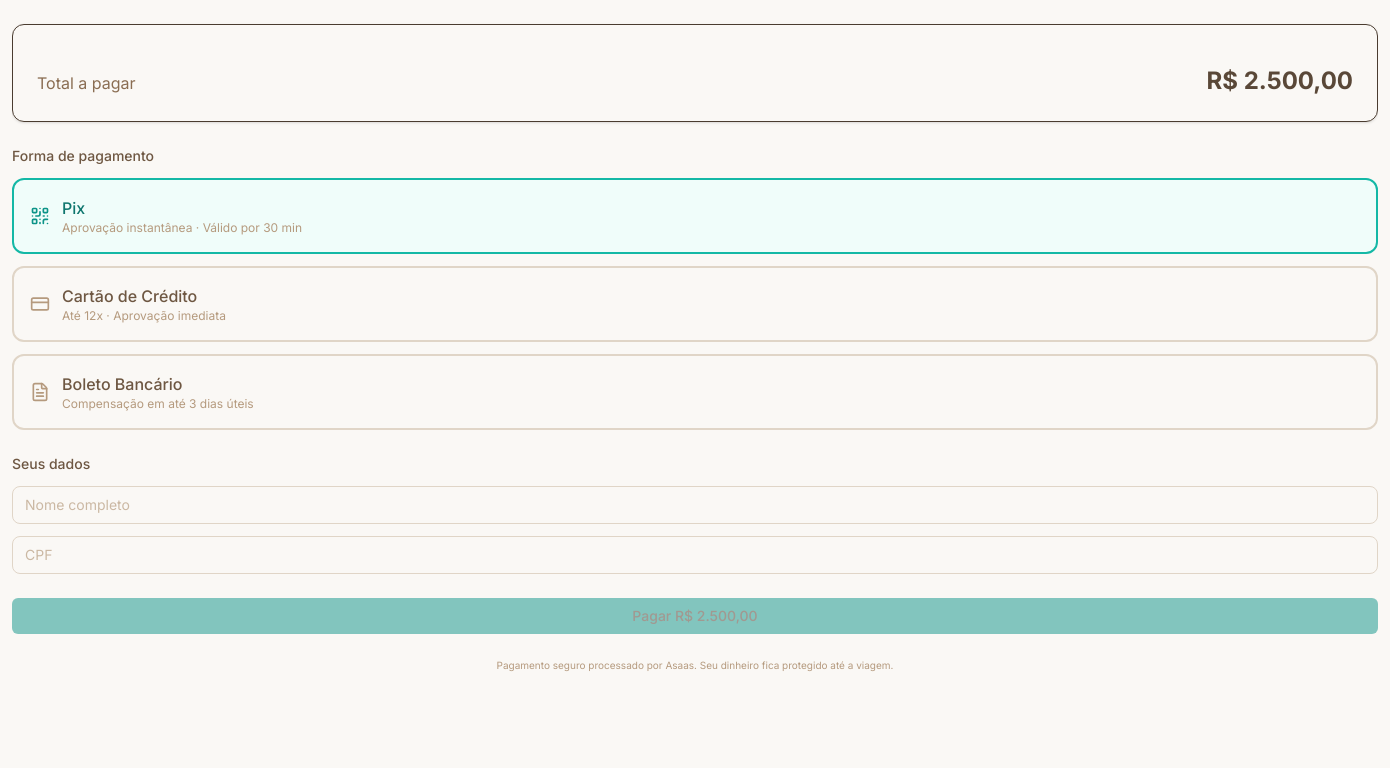
Test: CheckoutForm › shows installment selector for credit card
Click the button with test id "method-credit_card" at x=130, y=296, box x1=12 y1=266 x2=1378 y2=342
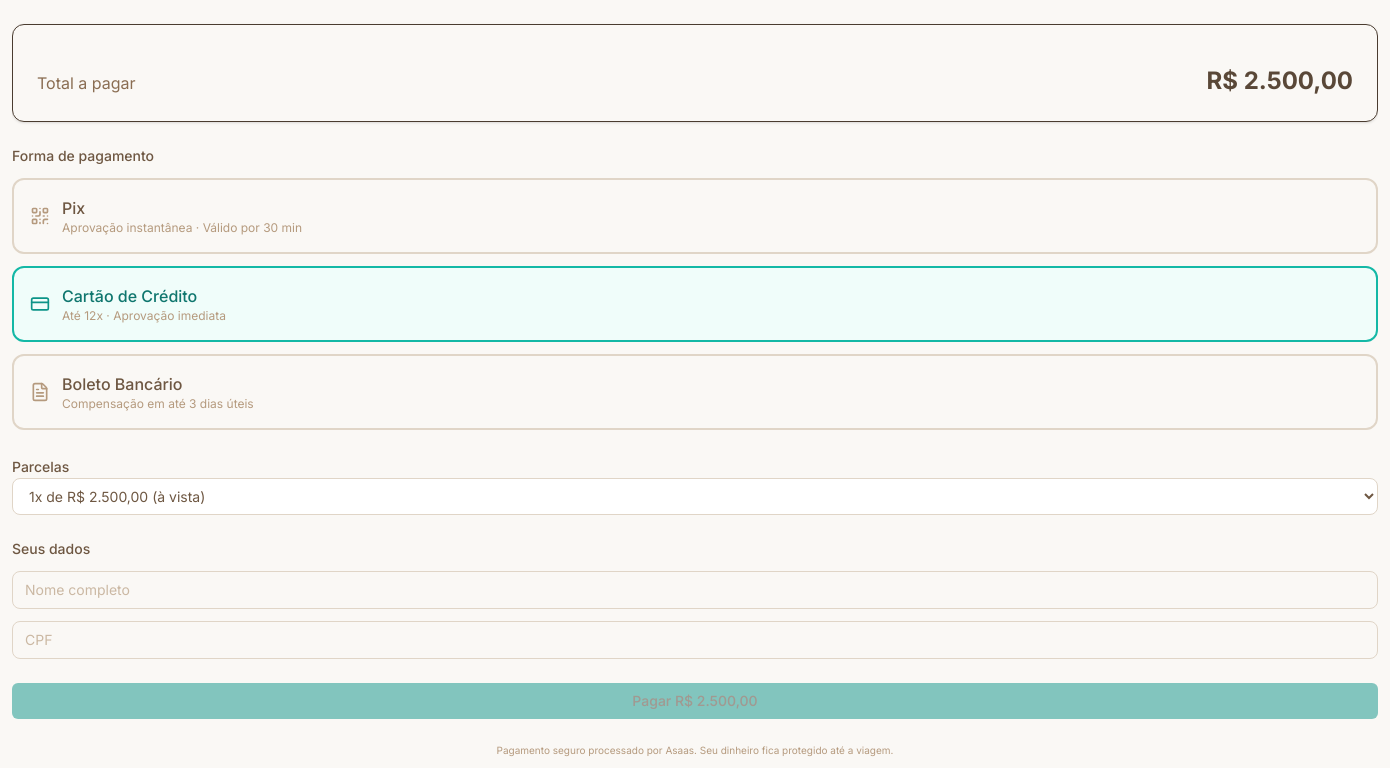
Check: the element with test id "installments-section" is shown, box x1=12 y1=454 x2=1378 y2=515
Check: the dropdown with test id "installments-select" is shown, box x1=12 y1=478 x2=1378 y2=515
